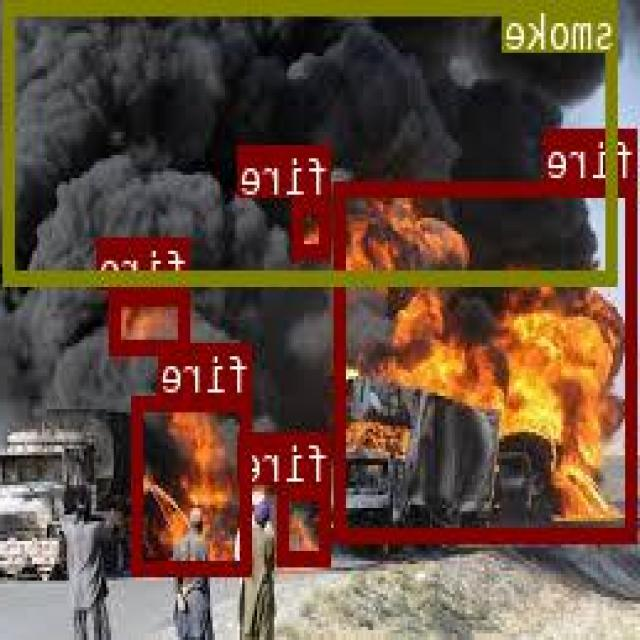fire: (336, 178, 638, 538), (135, 394, 254, 573), (114, 288, 192, 351), (280, 484, 334, 564), (295, 196, 331, 257)
smoke: (6, 0, 619, 280)
